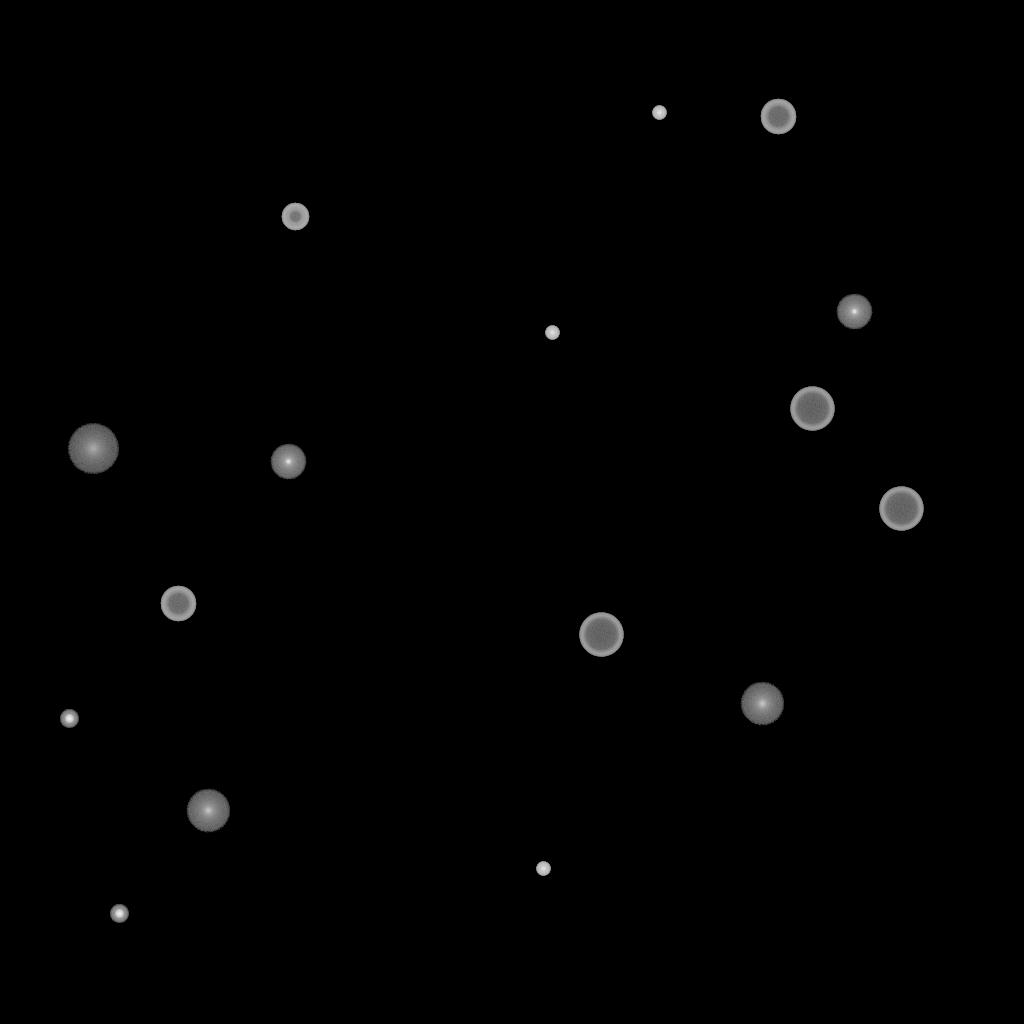depth:-20: (60, 710, 78, 728), (110, 905, 128, 923)
depth:-30: (536, 862, 550, 876), (652, 106, 666, 120), (545, 326, 559, 340)
depth:-50: (281, 203, 309, 231)
depth:-60: (160, 586, 196, 622), (760, 99, 796, 135)
depth:-70: (790, 387, 834, 431), (579, 613, 623, 657), (879, 487, 923, 531)
depth:0: (270, 444, 306, 480), (836, 294, 872, 330)
depth:10: (186, 789, 230, 833), (740, 682, 784, 726)
depth:20: (67, 424, 119, 474)
